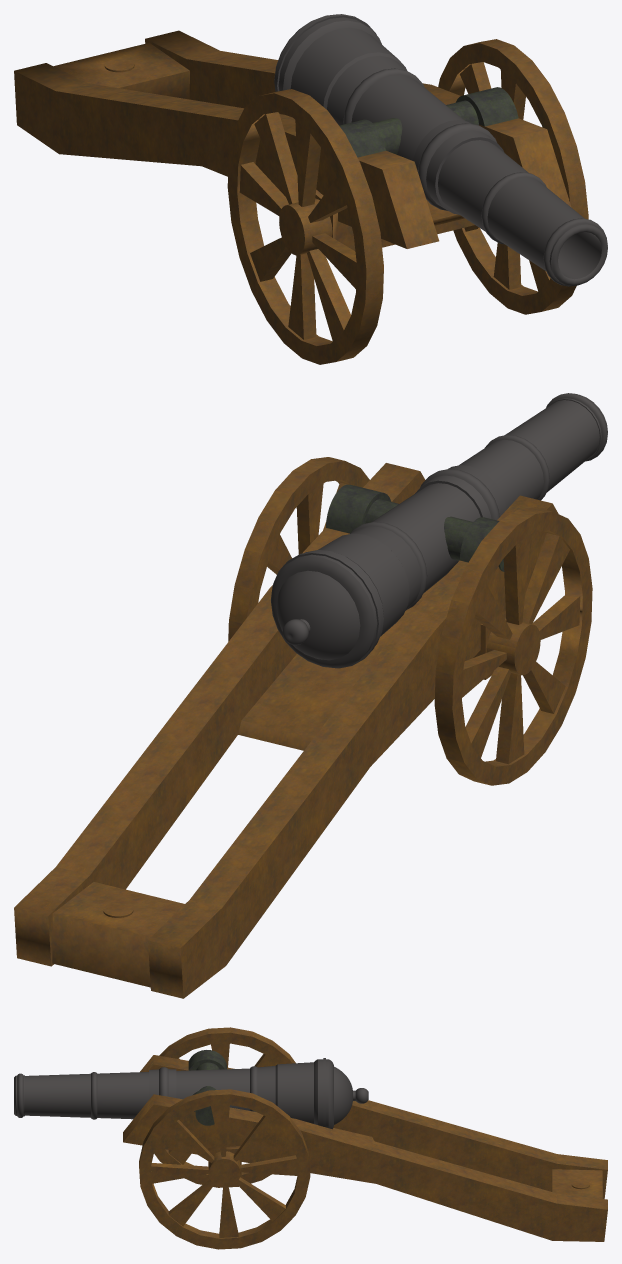
Rendered from cañon.fbx.
The picture shows the model from 3 angles, top to bottom: view 1: azimuth 30°, elevation 25°; view 2: azimuth 150°, elevation 25°; view 3: azimuth 270°, elevation 25°; orthographic projection. The views are drawn at different scales.
Parts seen in each view (by area): view 1: Generic_Horse_drawn_Cannon1, Group1, Group3, Group2; view 2: Generic_Horse_drawn_Cannon1, Group1, Group3, Group2; view 3: Generic_Horse_drawn_Cannon1, Group2, Group1, Group3.
Part boxes in pixels (x1=…): Generic_Horse_drawn_Cannon1: x1=14, y1=30, x2=571, y2=250; Group1: x1=274, y1=14, x2=607, y2=286; Group3: x1=227, y1=89, x2=383, y2=364; Group2: x1=438, y1=39, x2=588, y2=314; Generic_Horse_drawn_Cannon1: x1=14, y1=463, x2=558, y2=998; Group1: x1=271, y1=393, x2=607, y2=668; Group3: x1=434, y1=507, x2=592, y2=785; Group2: x1=228, y1=457, x2=369, y2=641; Generic_Horse_drawn_Cannon1: x1=123, y1=1050, x2=607, y2=1241; Group2: x1=139, y1=1089, x2=310, y2=1249; Group1: x1=14, y1=1058, x2=368, y2=1129; Group3: x1=154, y1=1027, x2=295, y2=1187.
Size of the model in its own units: 1.44 by 1.5 by 5.16.
